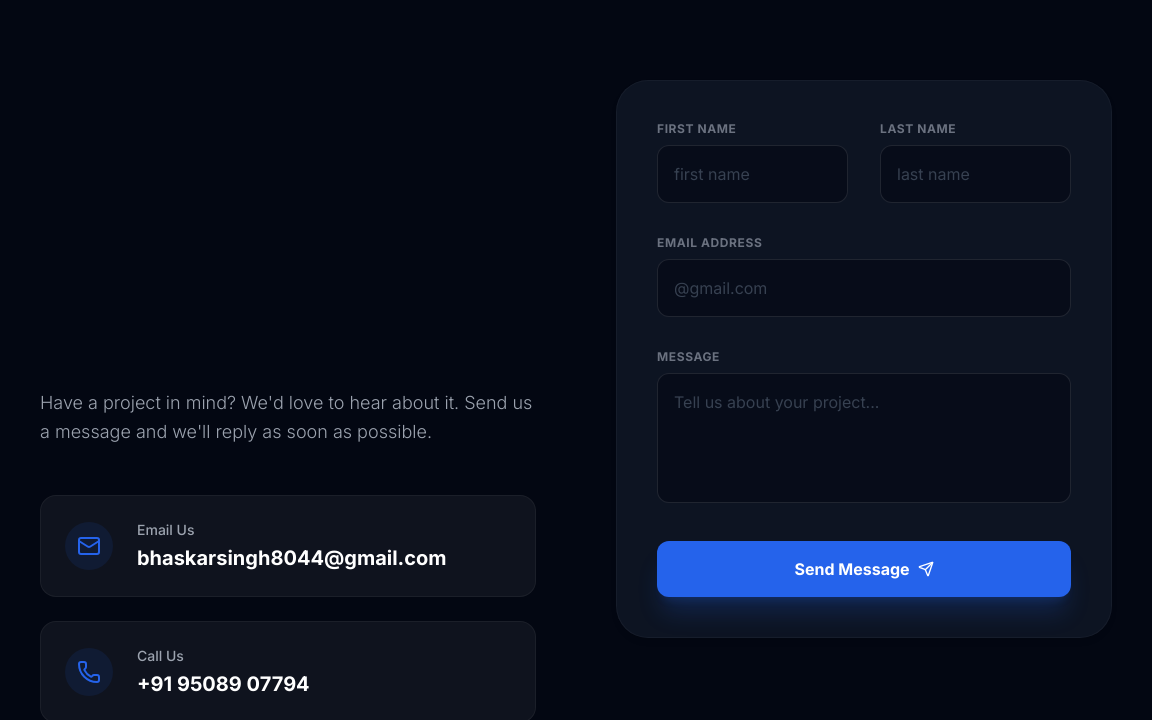
Contact Component › handles form submission successfully
Step 1. Type "John" into the field with placeholder "first name" → (752, 174), box [657,145,848,203]
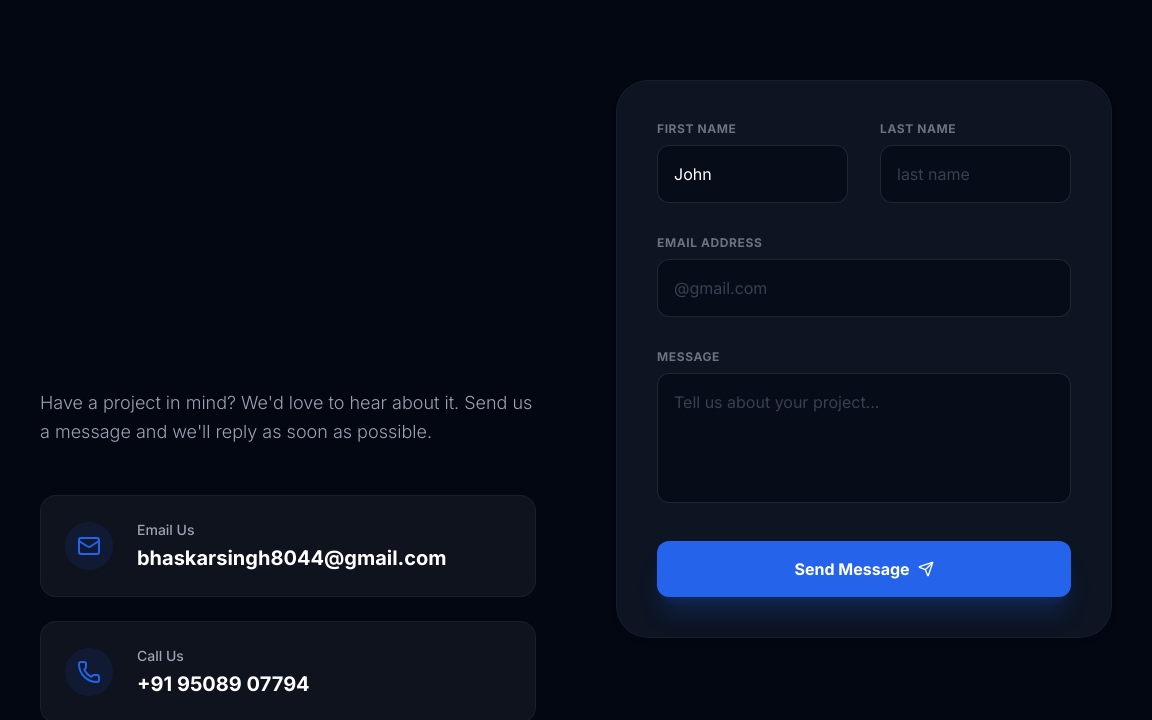
Step 2. Type "Doe" into the field with placeholder "last name" → (976, 174), box [880,145,1071,203]
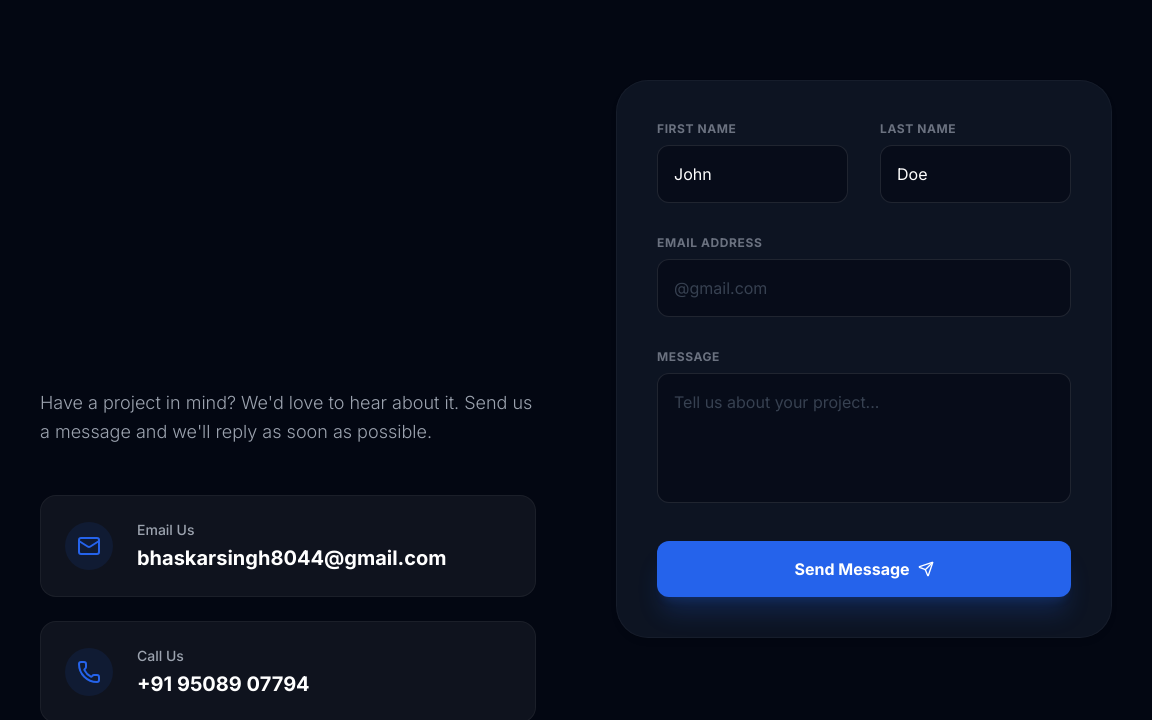
Step 3. Type "john@example.com" into the field with placeholder "@gmail.com" → (864, 288), box [657,259,1071,317]
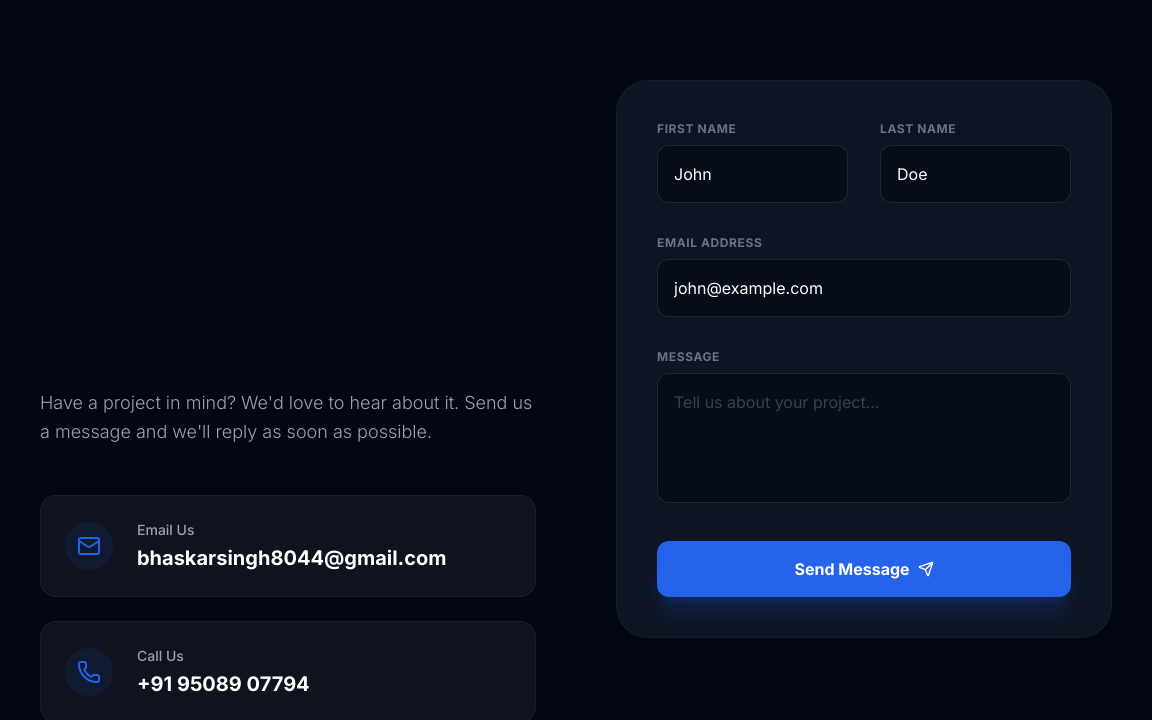
Step 4. Type "New project" into the text box with placeholder "Tell us about your project..." → (864, 438), box [657,373,1071,503]
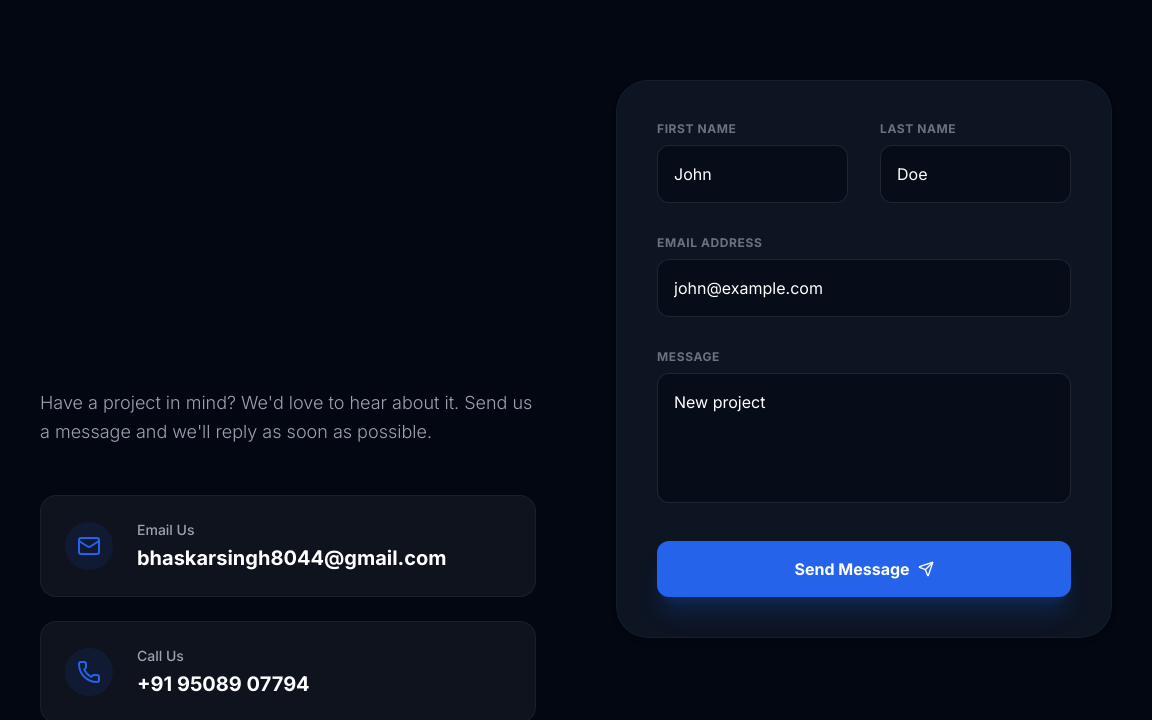
Step 5. Click the button "Send Message" → (864, 569), box [657,541,1071,597]
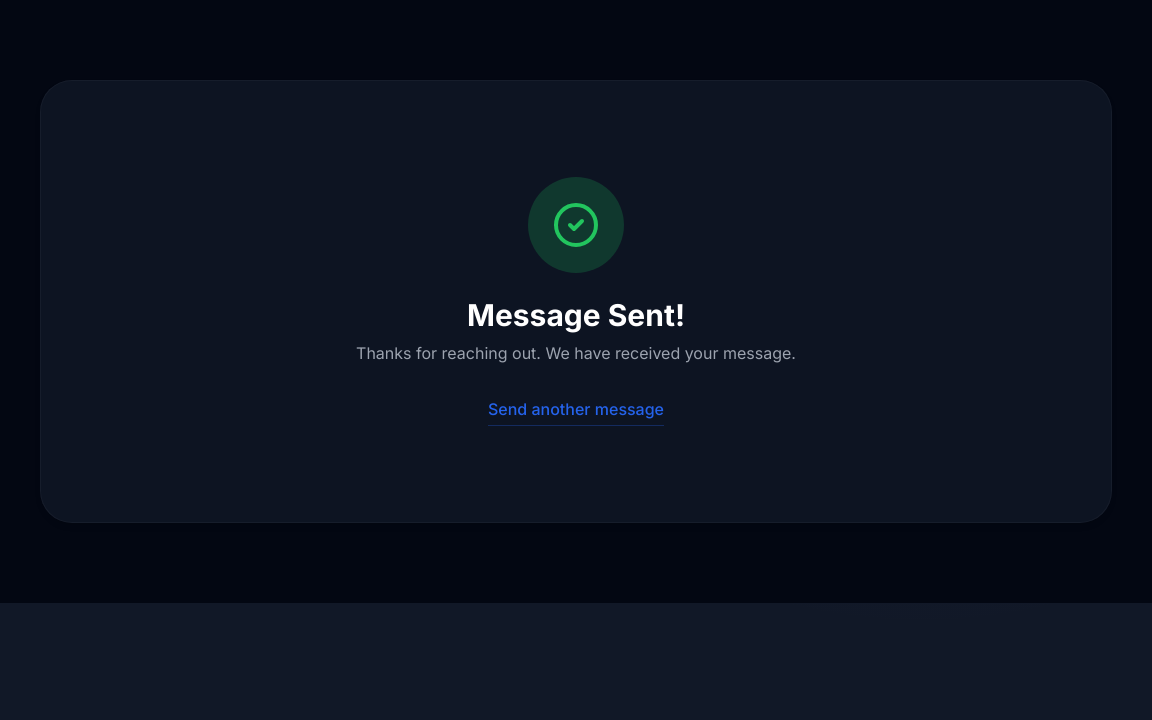
Expected: the heading "Message Sent!" is shown, [467,297,685,333]
